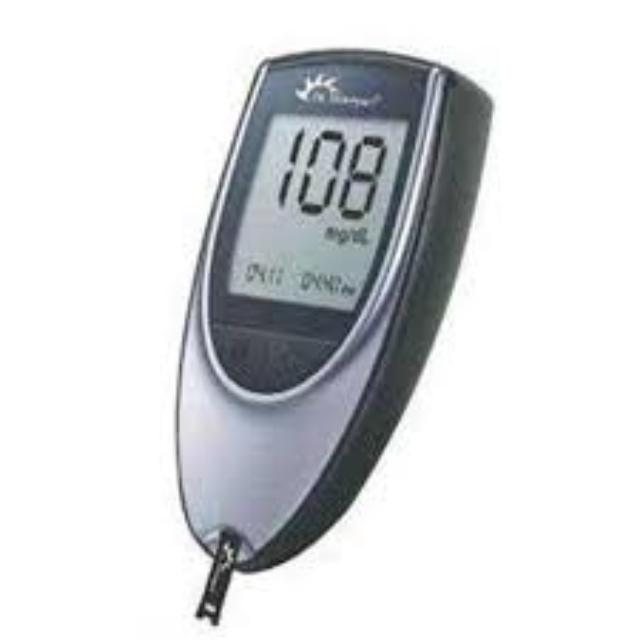Glucose-Meter: (178, 50, 492, 619)
